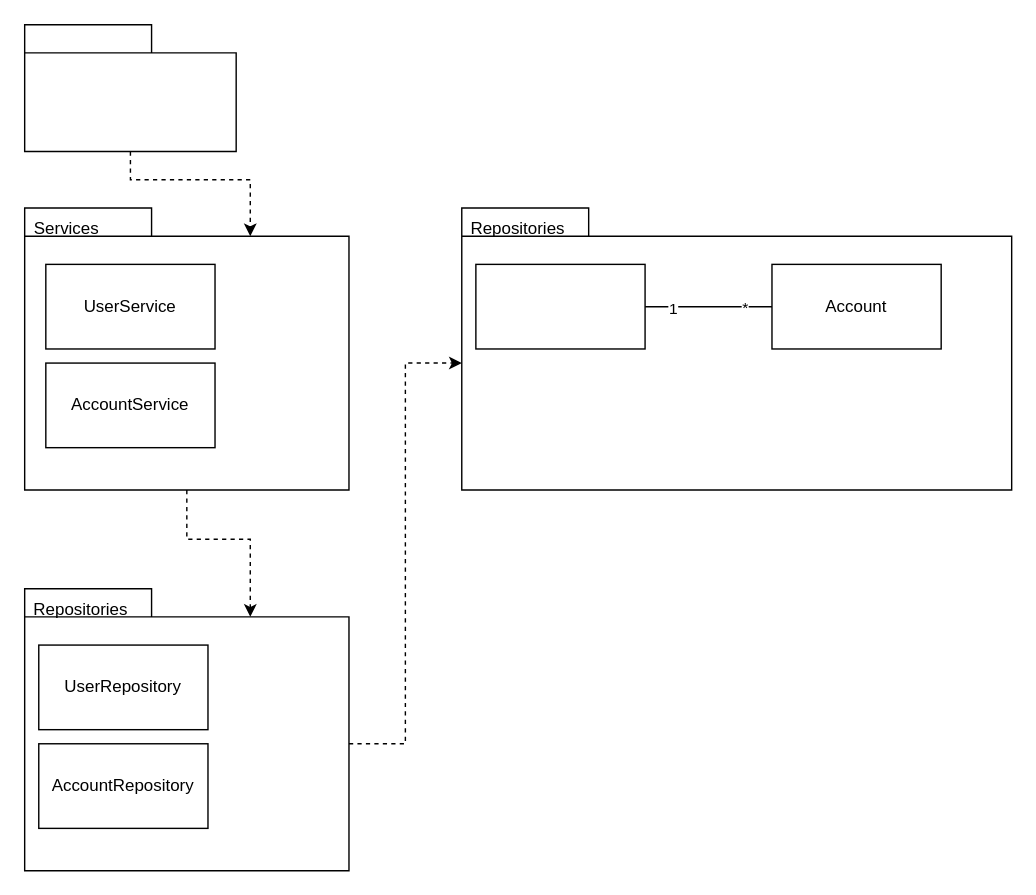
Some shapes in this 1036 by 895 pixel diagram are drawn without their labels. The centre of each missing label's shape, as x and y in pixels:
UI: [129,87]
User: [559,306]
